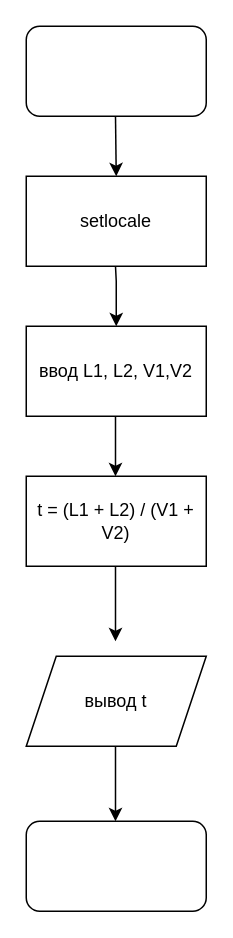
Some shapes in this 233 by 938 pixel diagram are drawn without their labels. Here are the shapes that lost their labels. From the top down, the centre of each, then its label:
(115,70): начало
(115,865): конец
